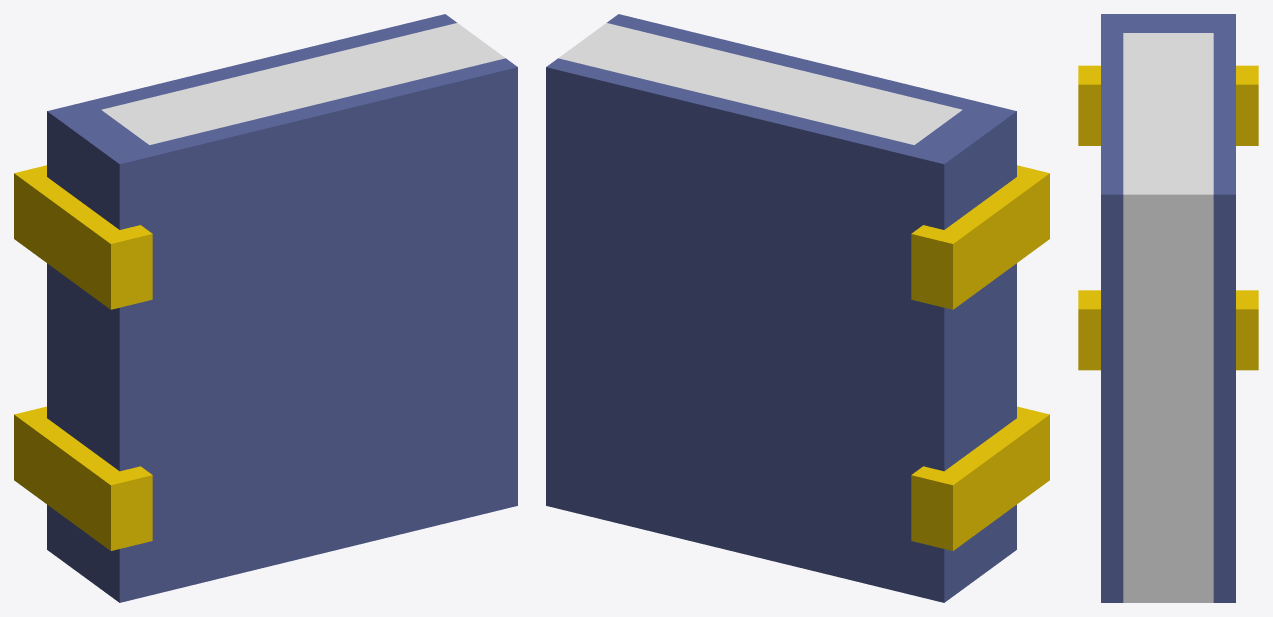
Rendered from SchoolPack-65-book.obj.
The picture shows the model from 3 angles, left to right: view 1: azimuth 30°, elevation 25°; view 2: azimuth 150°, elevation 25°; view 3: azimuth 270°, elevation 25°; orthographic projection. The views are drawn at different scales.
Parts seen in each view (by area): view 1: book; view 2: book; view 3: book.
Boxes of the visible parts, x1,y1,x2,y2 form: book: [14, 14, 517, 602]; book: [546, 14, 1049, 602]; book: [1078, 14, 1258, 602].
Size of the model in its own units: 2 by 2 by 0.8.
1 material, 1 textured.
